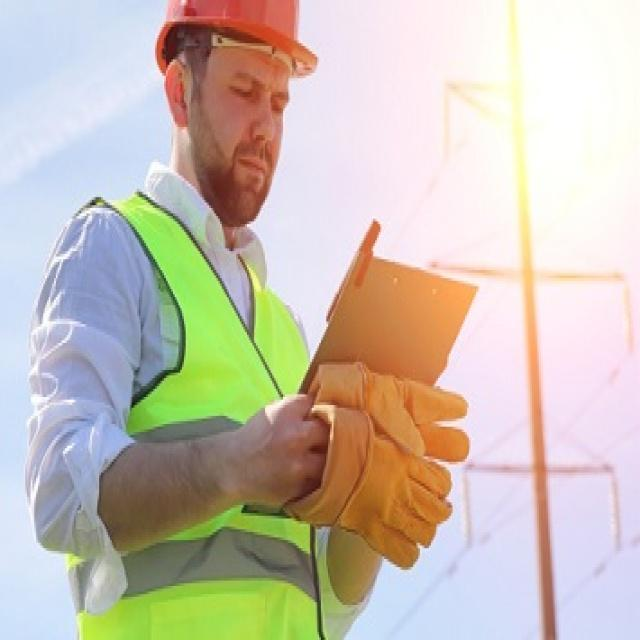helmet: (153, 3, 320, 301)
vest: (54, 259, 347, 640)
